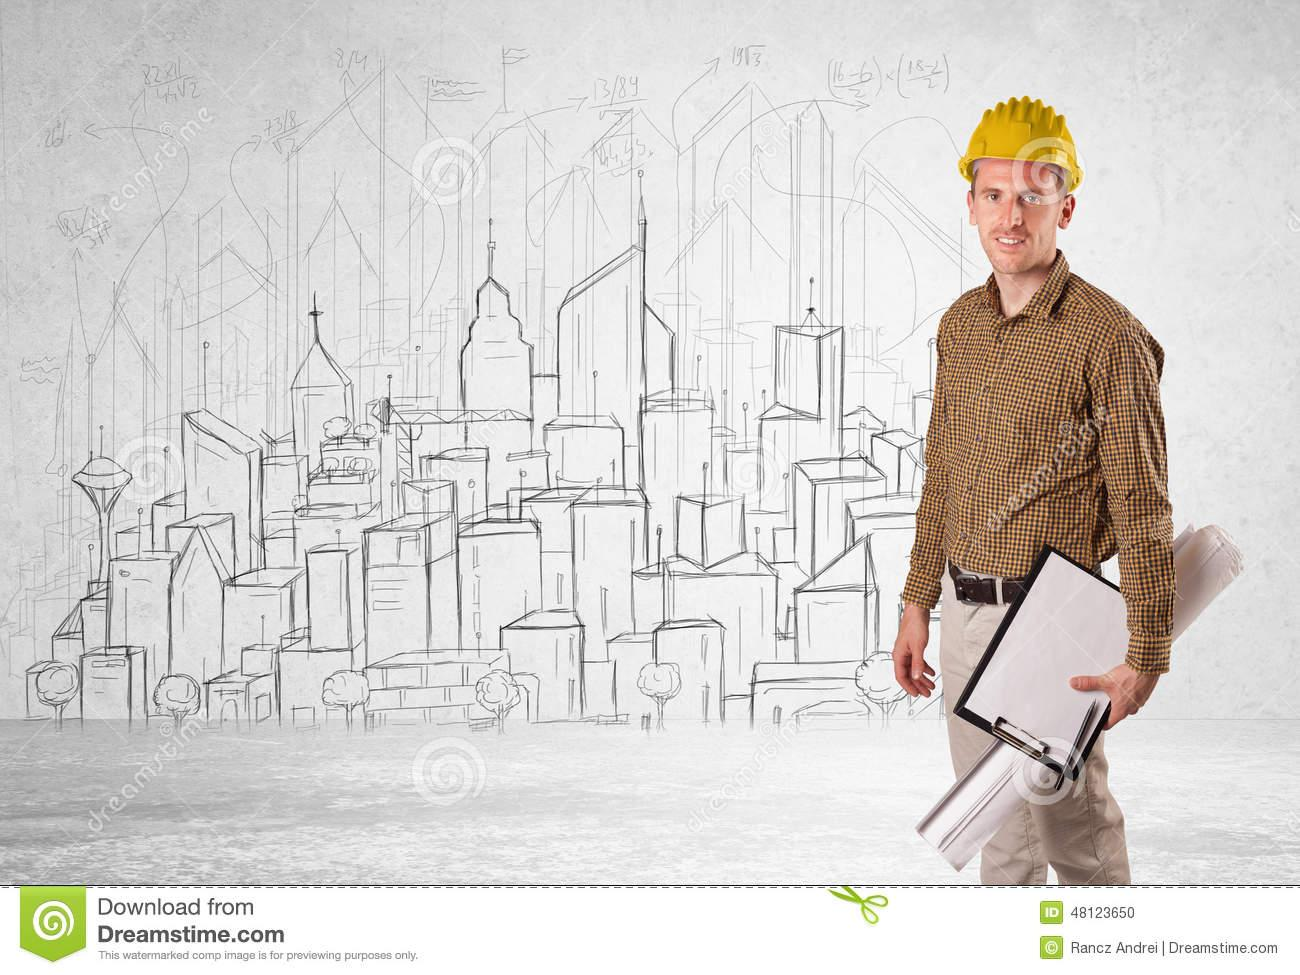helmet: (955, 91, 1083, 186)
